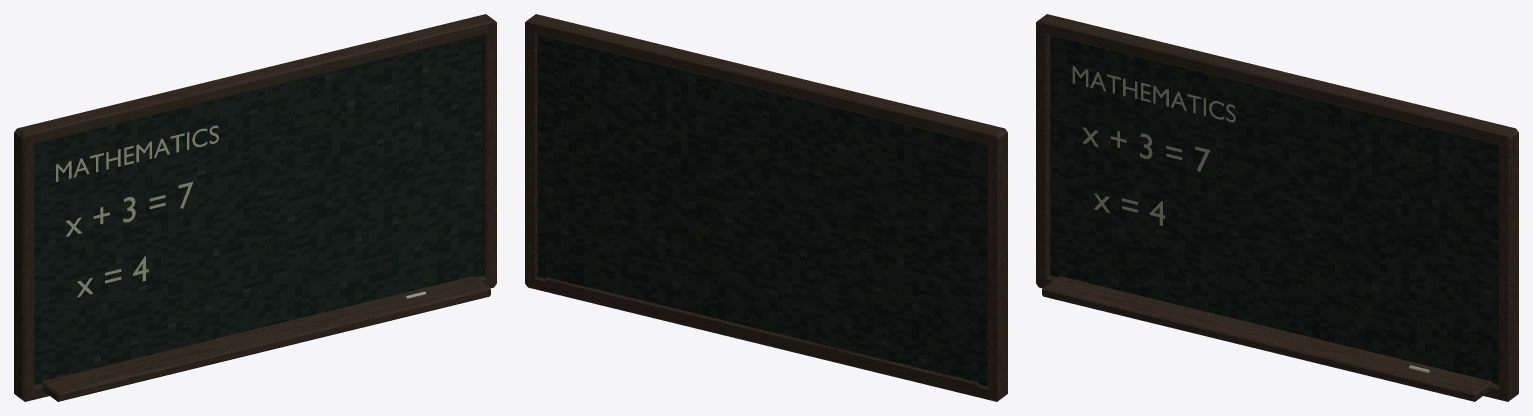
File: level_blackboard.glb
3 views of the same model, side by side, from view 1: azimuth 30°, elevation 25°; view 2: azimuth 150°, elevation 25°; view 3: azimuth 330°, elevation 25° (orthographic).
Visible parts, largest first — view 1: level_blackboard; view 2: level_blackboard; view 3: level_blackboard.
Part boxes in pixels (bbox=[...]): level_blackboard: bbox=[14, 14, 496, 401]; level_blackboard: bbox=[525, 14, 1007, 401]; level_blackboard: bbox=[1036, 14, 1518, 401].
Bounding box in the file's own units: 2.52 × 1.36 × 0.22.
Materials: 3 (3 with a texture image).
